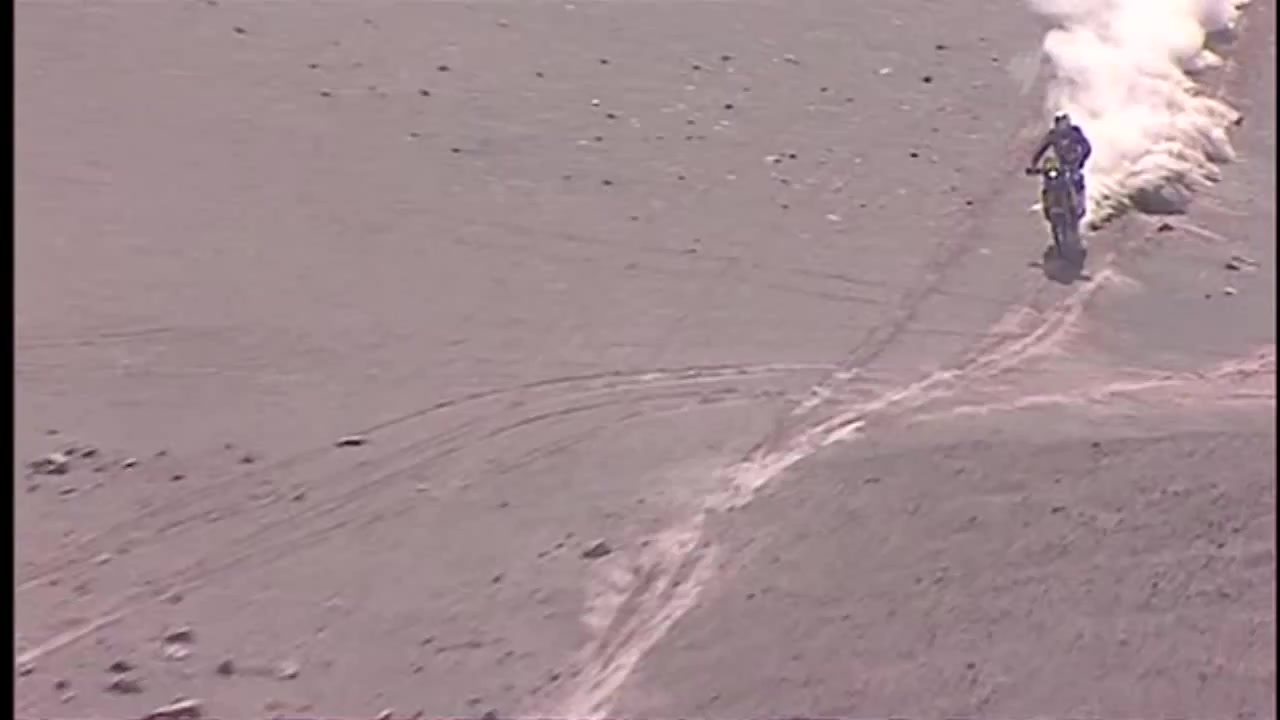motorbike: (1027, 152, 1090, 261)
